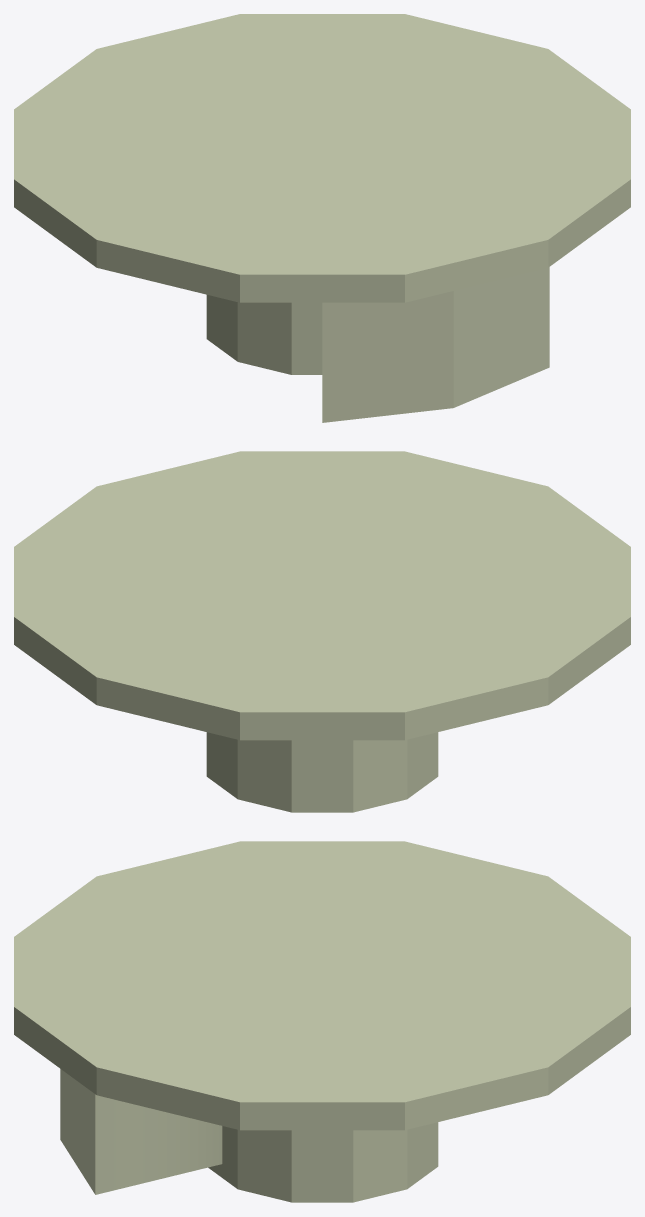
File: rotanev_lv_engine_mount_s4_1_collider.obj
3 renders of one model, top to bottom at view 1: azimuth 30°, elevation 25°; view 2: azimuth 150°, elevation 25°; view 3: azimuth 270°, elevation 25°, orthographic.
Visible parts, largest first — view 1: collider1, collider3, collider2; view 2: collider1, collider2; view 3: collider1, collider2, collider3.
Boxes of the visible parts, left/top/right/bottom form: collider1: left=14, top=14, right=630, bottom=302; collider3: left=322, top=267, right=549, bottom=422; collider2: left=206, top=295, right=322, bottom=374; collider1: left=14, top=451, right=630, bottom=740; collider2: left=206, top=732, right=438, bottom=812; collider1: left=14, top=841, right=630, bottom=1130; collider2: left=208, top=1122, right=438, bottom=1202; collider3: left=60, top=1069, right=222, bottom=1194.
Bounding box in the file's own units: 5 × 1.62 × 5.
